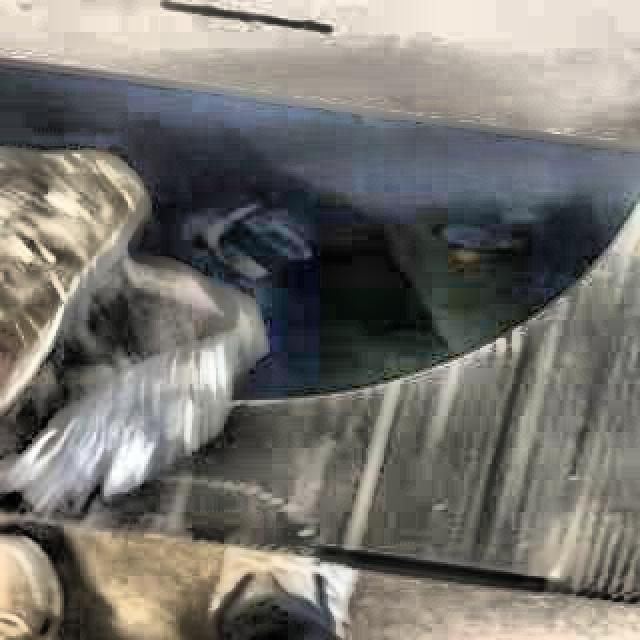metal: (0, 145, 264, 515)
